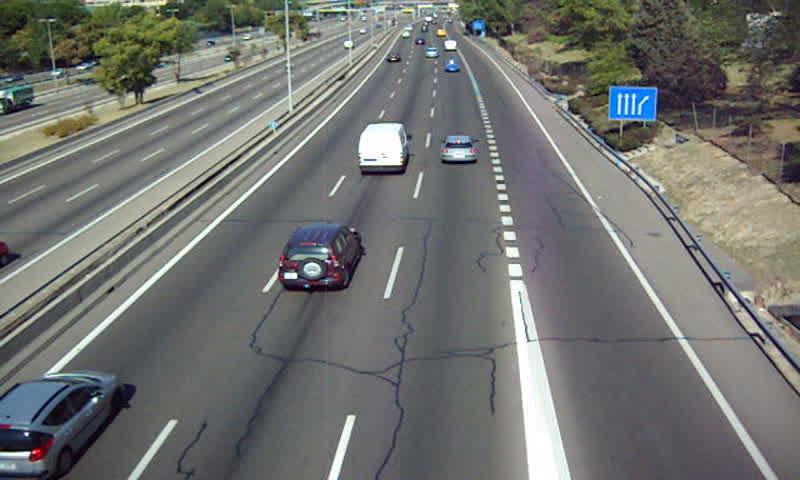car: (1, 373, 119, 480), (279, 227, 360, 289), (440, 135, 476, 163), (443, 58, 461, 73), (387, 52, 401, 64)
van: (359, 124, 409, 174)
